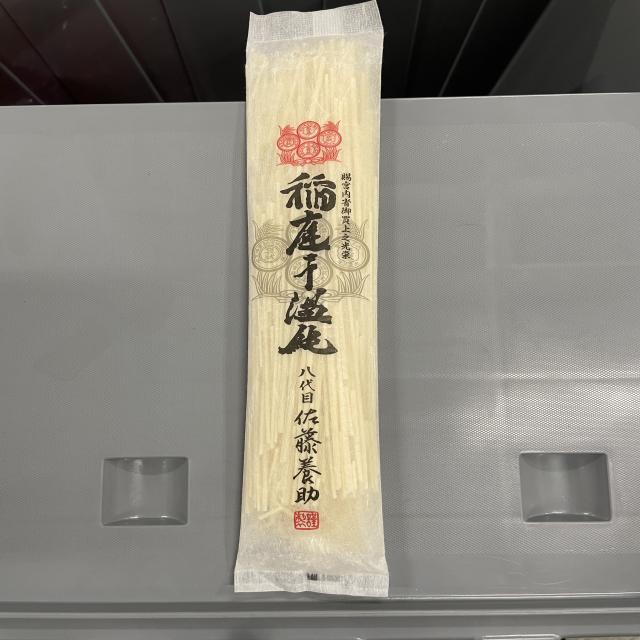object_name: (247, 19, 387, 603)
